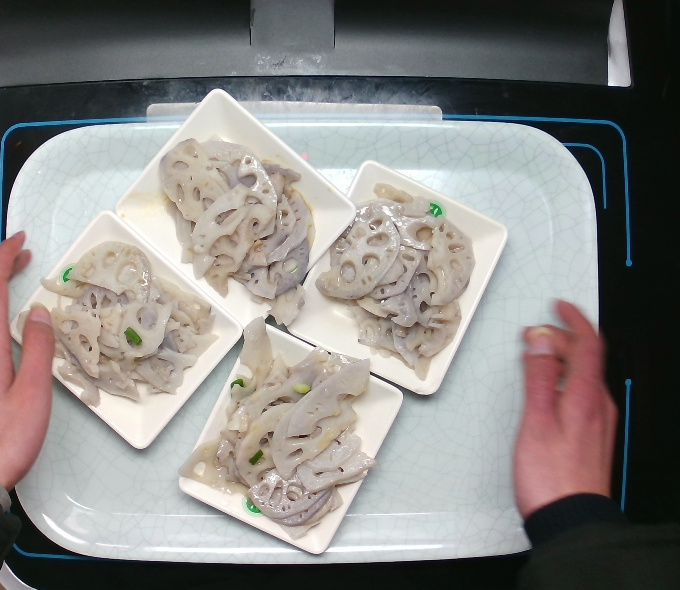wcq-OuPian: (183, 317, 375, 533), (316, 180, 478, 386), (28, 240, 223, 406), (161, 137, 320, 327)
